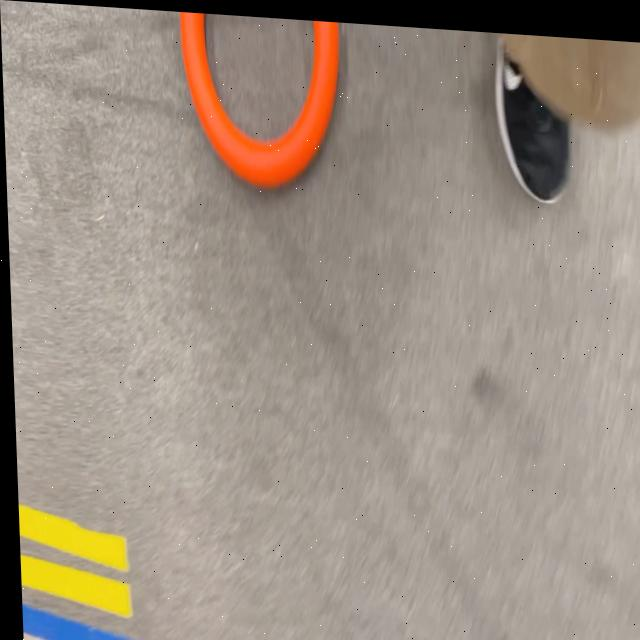note: (180, 9, 343, 186)
